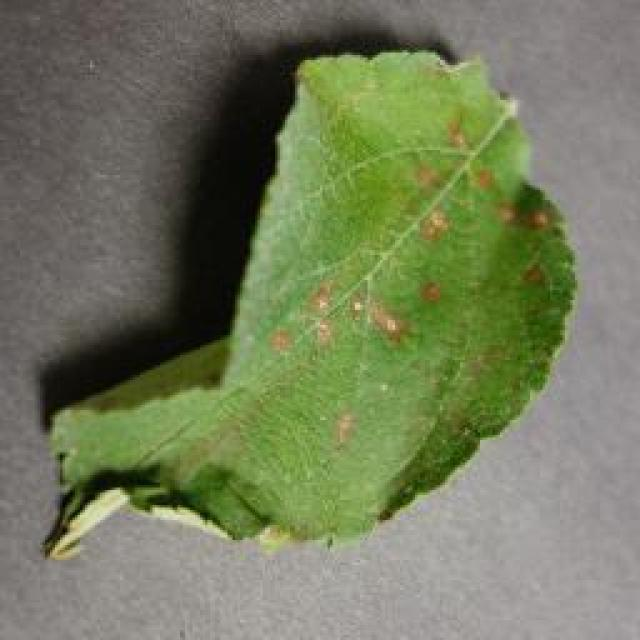apple cedar apple rust: (38, 42, 578, 562)
